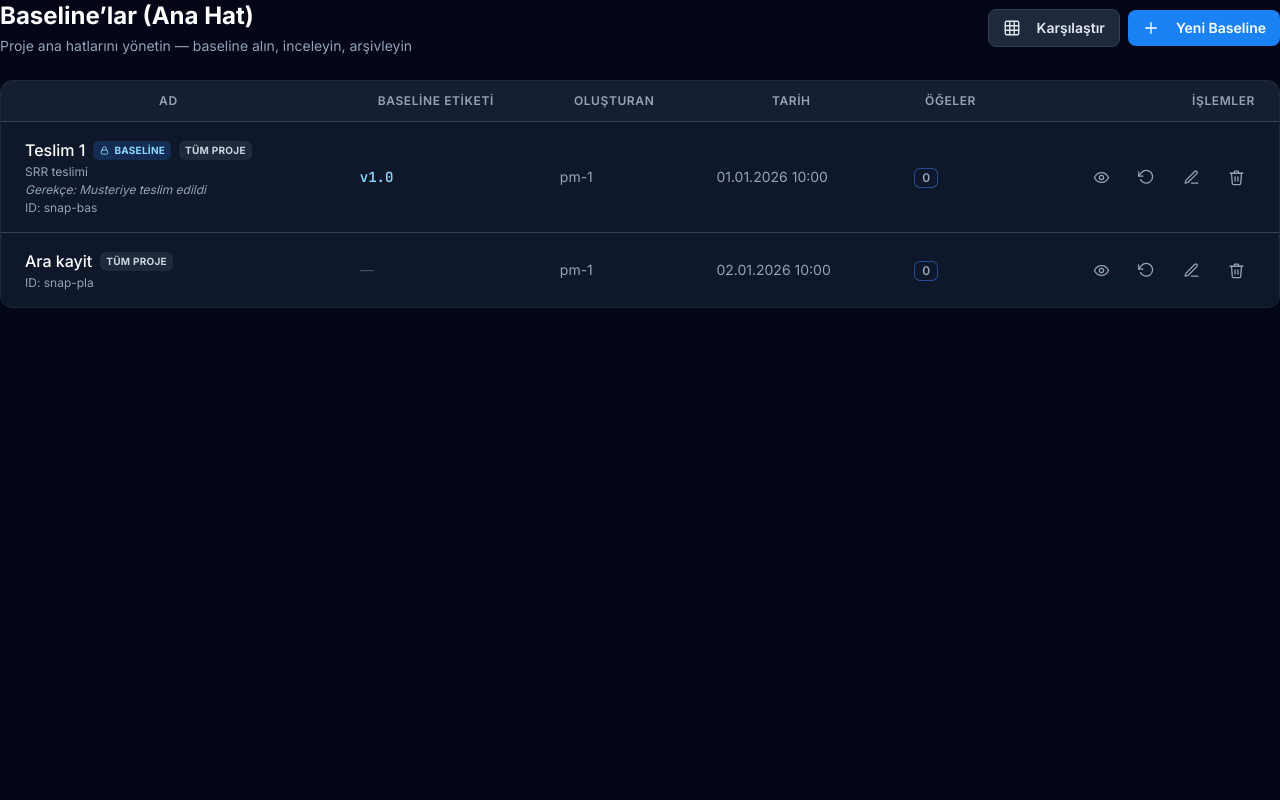
Test case: Baseline — geri yukleme › once ONIZLEME gosterilir: kac kayit eklenecek/guncellenecek/silinecek
Click the button named "Güncel baseline’a geri dön" in the row of "SRR teslimi".
click(1146, 177)  # box [1128, 162, 1165, 192]
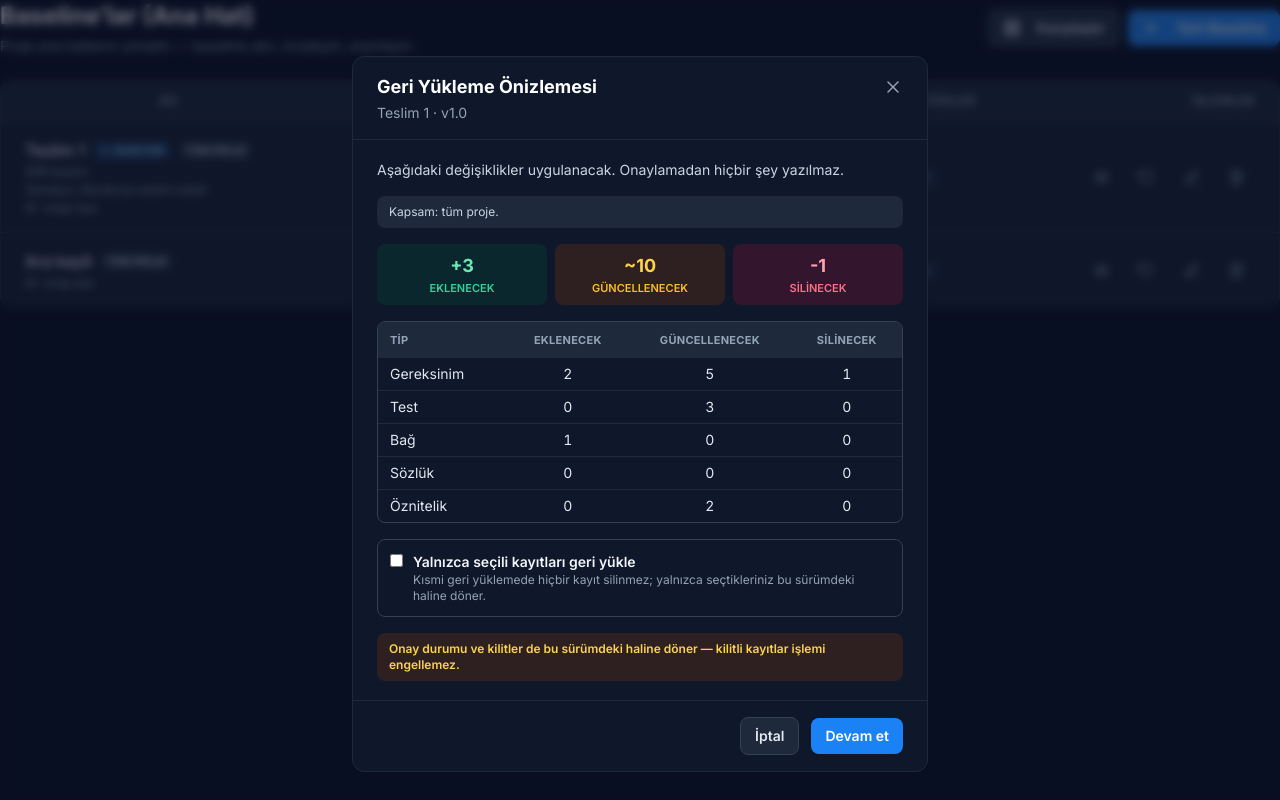
Expected: the element with test id "restore-totals" is shown, [377, 244, 903, 304]
Expected: the text "+3" is shown, [450, 255, 474, 276]
Expected: the text "~10" is shown, [624, 255, 656, 276]
